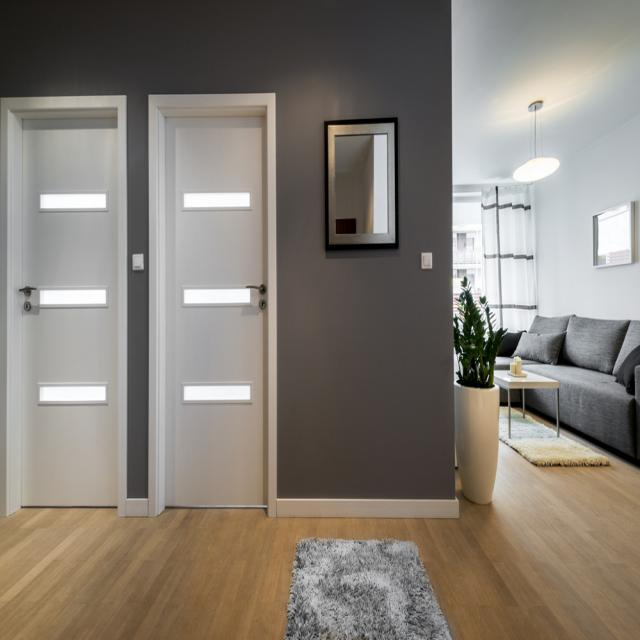close: (9, 112, 126, 514), (159, 109, 272, 524)
